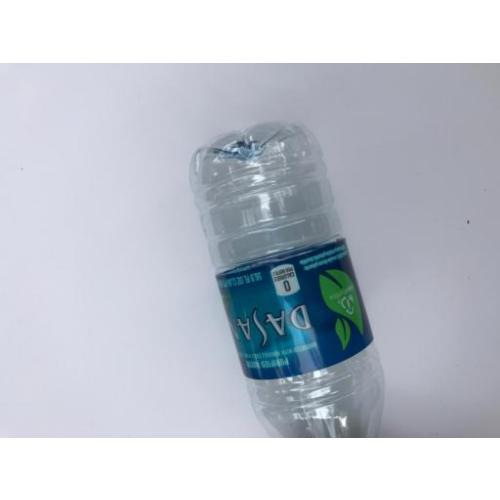plastic: (191, 121, 385, 434)
